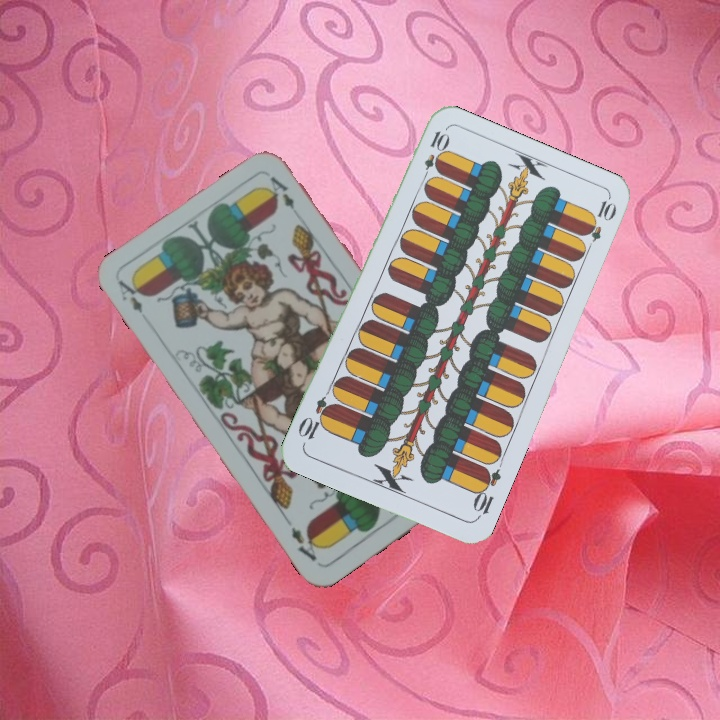E10: (468, 463, 504, 522), (418, 127, 450, 185)
EA: (114, 274, 147, 316)
